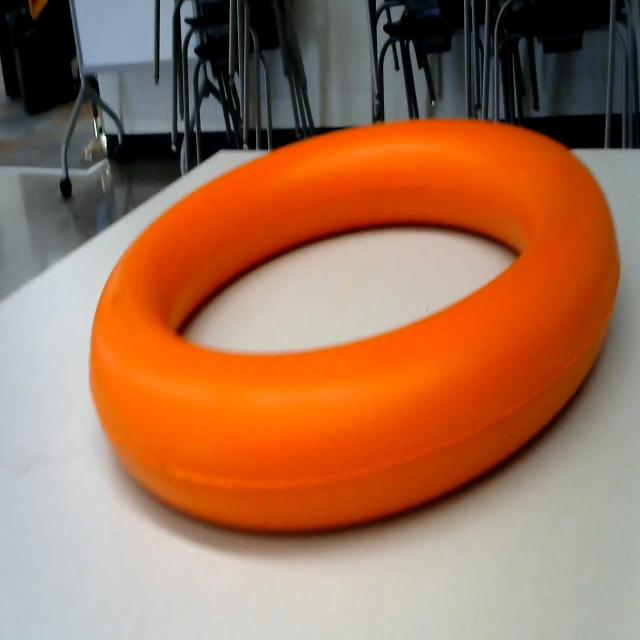note: (83, 99, 625, 563)
